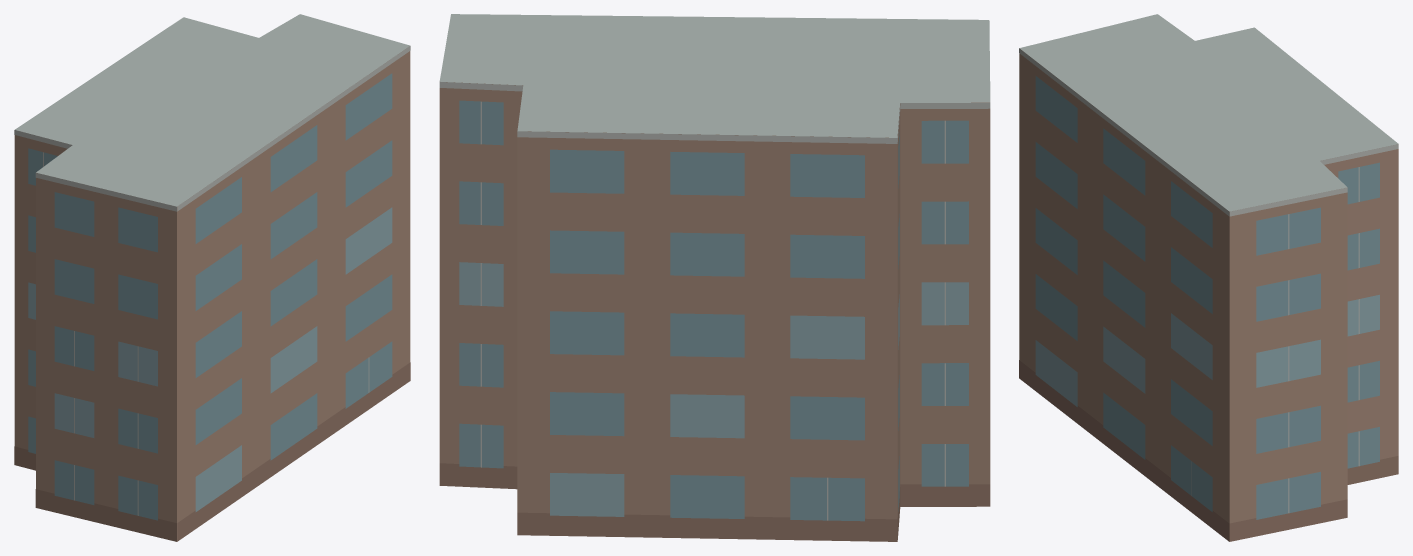
The model's file is survey-upis-33019512.glb.
3 views of the same model, side by side, from view 1: azimuth 30°, elevation 25°; view 2: azimuth 150°, elevation 25°; view 3: azimuth 270°, elevation 25° (orthographic). The views are drawn at different scales.
Parts seen in each view (by area): view 1: survey-upis-33019512.tmp; view 2: survey-upis-33019512.tmp; view 3: survey-upis-33019512.tmp.
Boxes of the visible parts, bbox=[...] form: survey-upis-33019512.tmp: bbox=[14, 14, 410, 541]; survey-upis-33019512.tmp: bbox=[439, 14, 990, 541]; survey-upis-33019512.tmp: bbox=[1019, 14, 1398, 541].
Size of the model in its own units: 20.8 by 16.2 by 16.88.
